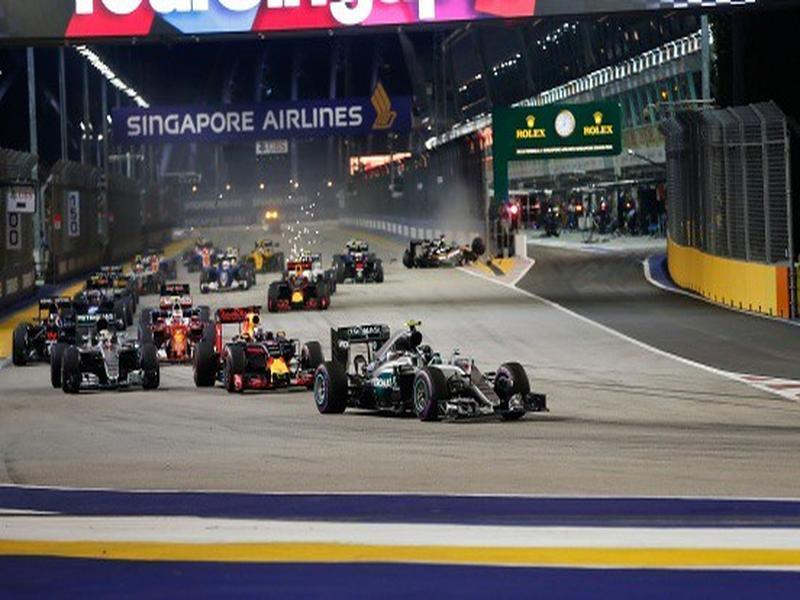f1: (315, 313, 555, 427), (187, 298, 328, 387), (48, 325, 170, 396), (142, 297, 218, 363), (265, 250, 332, 312), (327, 237, 392, 285), (194, 252, 251, 289)
